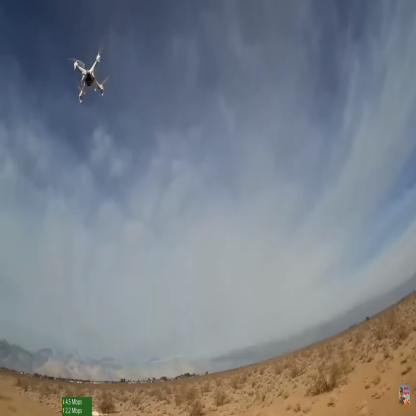drone: (69, 41, 112, 109)
